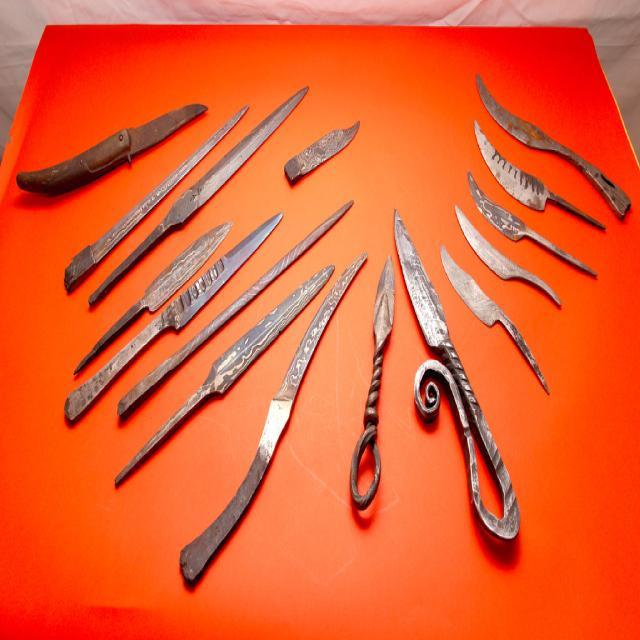Knife: (181, 255, 366, 584), (119, 201, 354, 410), (115, 265, 334, 486), (89, 88, 307, 304), (395, 211, 520, 540), (64, 232, 264, 422), (64, 106, 247, 291), (74, 222, 231, 373), (476, 76, 631, 218), (16, 104, 206, 194), (442, 246, 549, 392), (475, 122, 605, 228), (469, 174, 596, 276), (350, 258, 395, 510), (455, 207, 561, 304), (284, 123, 360, 184)
